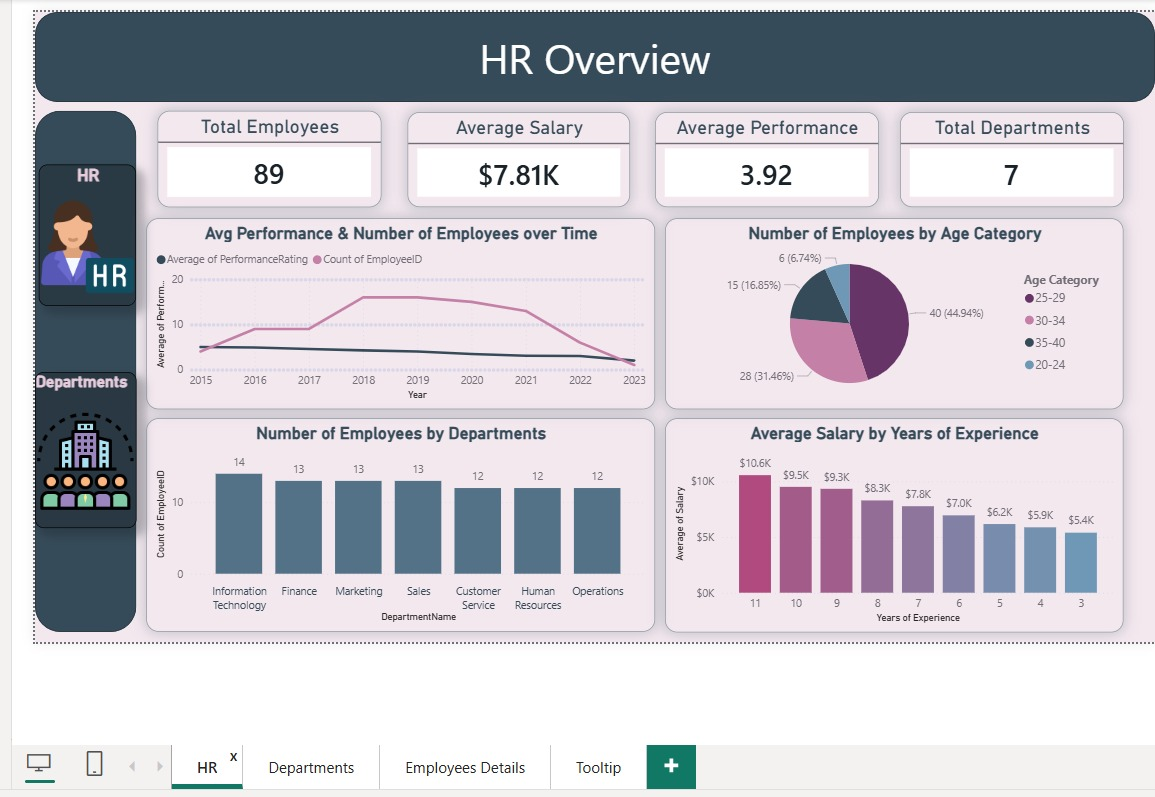

The page's visual inventory and layout, read from the dashboard file:
{"tool":"powerbi","page":{"name":"HR ","canvas":[1280,720],"ordinal":0},"visuals":[{"type":"shape","box":[0,0,1280,102.9],"z":0},{"type":"shape","box":[0,112.9,115.7,595.7],"z":1000},{"type":"image","title":"HR ","box":[4.3,174.3,111.4,161.4],"z":2000},{"type":"image","title":"Departments ","box":[0,411.4,115.7,178.6],"z":3000},{"type":"cardVisual","title":"Total Employees","fields":{"Data":["CountNonNull(Employees.EmployeeID)"]},"box":[140,112.9,255.7,110],"z":4000},{"type":"cardVisual","title":"Average Salary","fields":{"Data":["Avg(Employees.Salary)"]},"box":[425.7,114.3,254.3,108.6],"z":5000},{"type":"cardVisual","title":"Average Performance","fields":{"Data":["Avg(Employees.PerformanceRating)"]},"box":[708.6,114.3,255.7,108.6],"z":6000},{"type":"cardVisual","title":"Total Departments","fields":{"Data":["Count(Employees.DepartmentID)"]},"box":[988.6,114.3,255.7,108.6],"z":7000},{"type":"lineChart","title":"Avg Performance & Number of Employees over Time","fields":{"Category":["Employees.HireDate.Variation.Date Hierarchy.Year","Employees.HireDate.Variation.Date Hierarchy.Month"],"Y":["Avg(Employees.PerformanceRating)","CountNonNull(Employees.EmployeeID)"]},"box":[127.1,235.7,581.4,218.6],"z":8000},{"type":"pieChart","title":"Number of Employees by Age Category","fields":{"Y":["CountNonNull(Employees.EmployeeID)"],"Category":["Employees.Age Category"]},"box":[720,235.7,524.3,218.6],"z":9000},{"type":"columnChart","title":"Average Salary by Years of Experience","fields":{"Category":["Employees.Years of Experience"],"Y":["Avg(Employees.Salary)"]},"box":[720,463.8,523.8,245],"z":10000},{"type":"clusteredColumnChart","title":"Number of Employees by Departments","fields":{"Category":["Departments.DepartmentName"],"Y":["CountNonNull(Employees.EmployeeID)"]},"box":[127.1,464.3,581.4,244.3],"z":11000}]}

Visuals, with their boxes on the page's 1280x720 design canvas (x1, y1, x2, y2). These are canvas units, not pixel positions in the 1155x797 screenshot, which may show the page scaled, cropped or inside an application window:
shape: rect(0, 0, 1280, 103)
shape: rect(0, 113, 116, 709)
"HR " image: rect(4, 174, 116, 336)
"Departments " image: rect(0, 411, 116, 590)
"Total Employees" cardVisual: rect(140, 113, 396, 223)
"Average Salary" cardVisual: rect(426, 114, 680, 223)
"Average Performance" cardVisual: rect(709, 114, 964, 223)
"Total Departments" cardVisual: rect(989, 114, 1244, 223)
"Avg Performance & Number of Employees over Time" lineChart: rect(127, 236, 708, 454)
"Number of Employees by Age Category" pieChart: rect(720, 236, 1244, 454)
"Average Salary by Years of Experience" columnChart: rect(720, 464, 1244, 709)
"Number of Employees by Departments" clusteredColumnChart: rect(127, 464, 708, 709)
